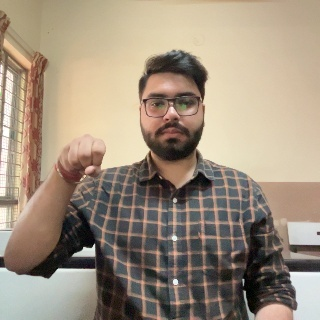Face: (142, 66, 205, 166)
Yes: (57, 133, 107, 196)
